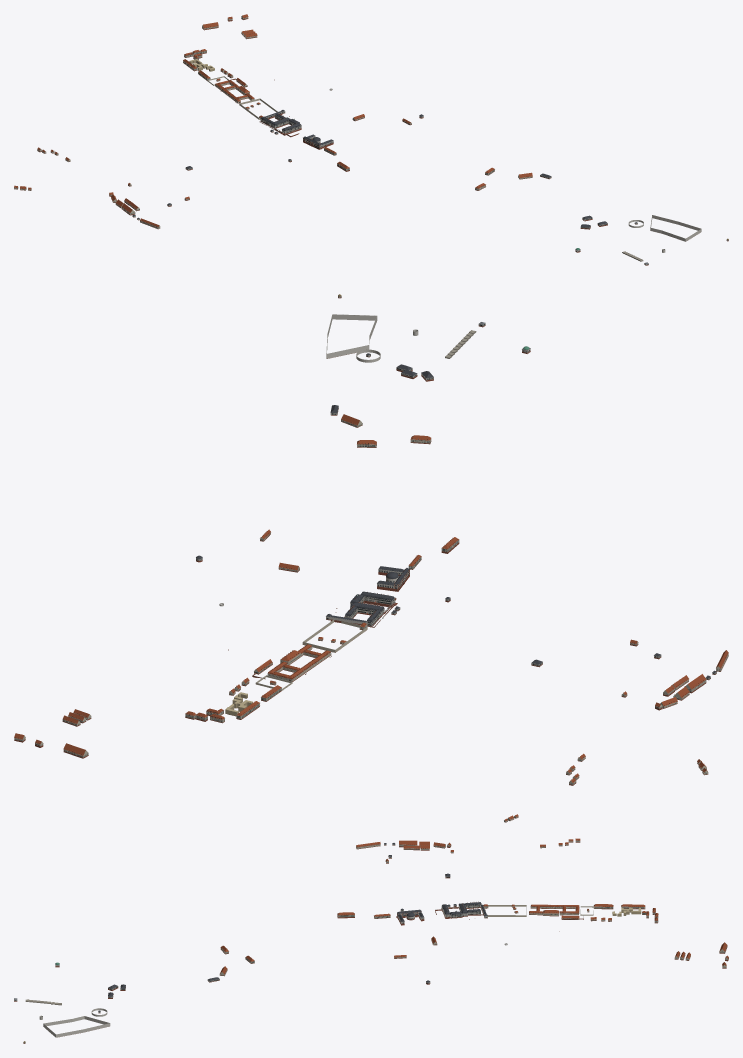
The model's file is buildings.glb.
The picture shows the model from 3 angles, top to bottom: view 1: azimuth 30°, elevation 25°; view 2: azimuth 150°, elevation 25°; view 3: azimuth 270°, elevation 25°; orthographic projection. The views are drawn at different scales.
Parts seen in each view (by area): view 1: no part large enough to name; view 2: no part large enough to name; view 3: KL-B43.
Part boxes in pixels (x1,y1,x2,y2): KL-B43: (43, 1016, 110, 1037).
Bounding box in the file's own units: 1904 × 120 × 2432.
